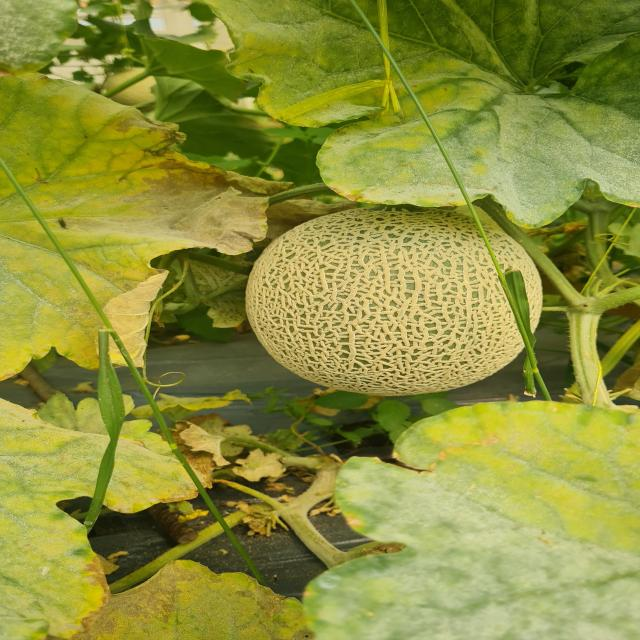melon: (247, 209, 522, 395)
